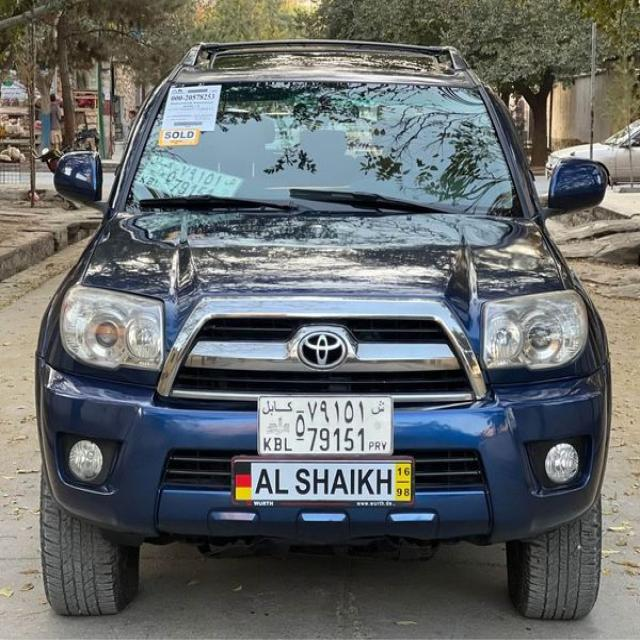Plate: (258, 397, 394, 456)
